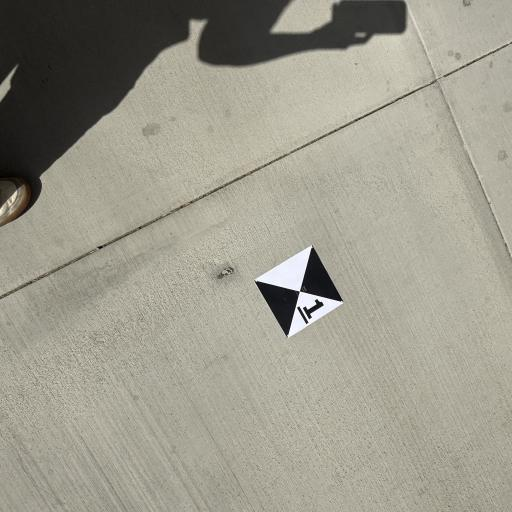target1: (252, 242, 346, 342)
